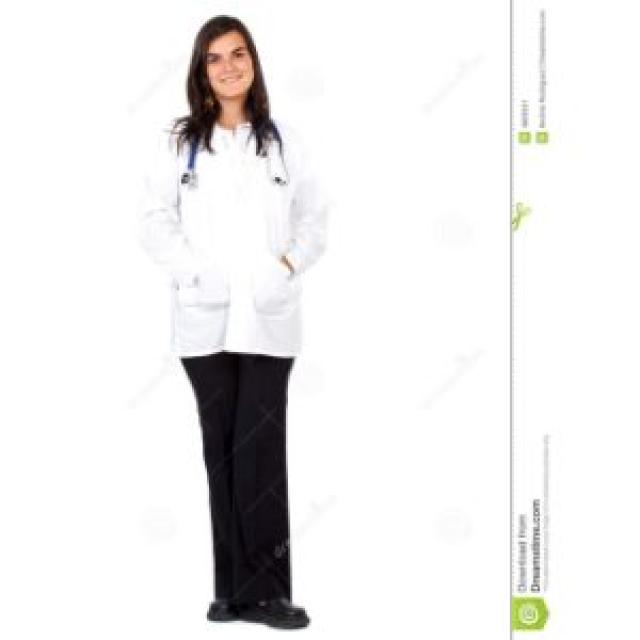adult: (128, 8, 346, 638)
